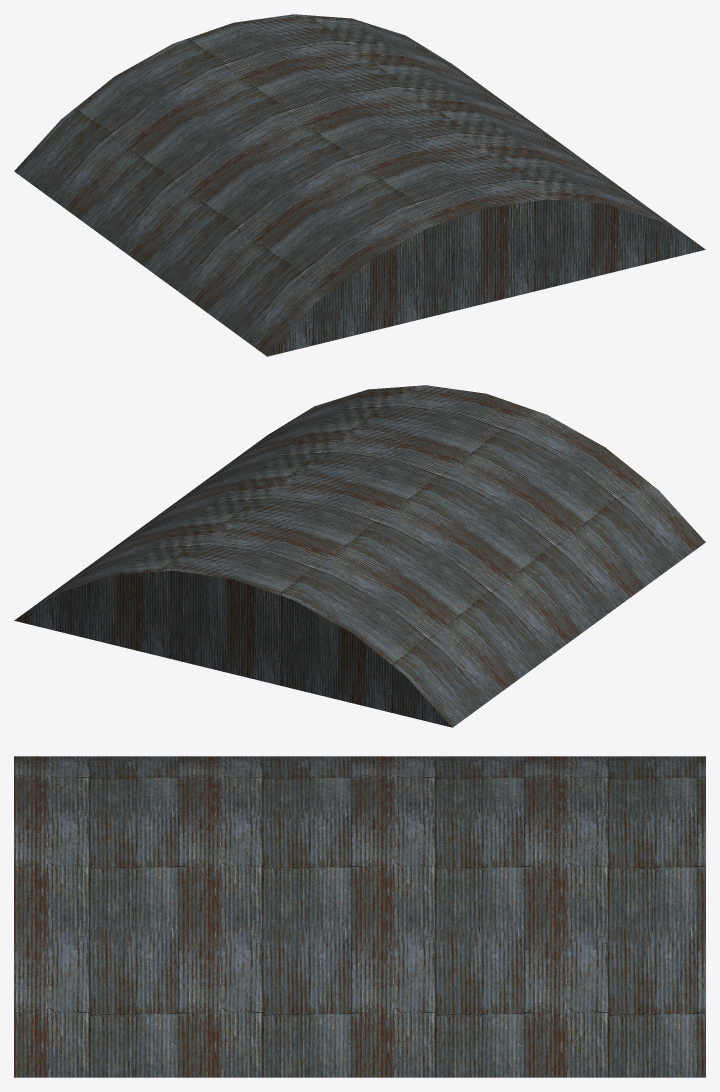
Rendered from warehouse_hs_1_roof_1.obj.
The picture shows the model from 3 angles, top to bottom: view 1: azimuth 30°, elevation 25°; view 2: azimuth 150°, elevation 25°; view 3: azimuth 270°, elevation 25°; orthographic projection. The views are drawn at different scales.
Parts seen in each view (by area): view 1: warehouse_hs_1_roof_1; view 2: warehouse_hs_1_roof_1; view 3: warehouse_hs_1_roof_1.
Part boxes in pixels (x1=…): warehouse_hs_1_roof_1: x1=14, y1=14, x2=705, y2=356; warehouse_hs_1_roof_1: x1=14, y1=385, x2=705, y2=727; warehouse_hs_1_roof_1: x1=14, y1=756, x2=705, y2=1077.
Bounding box in the file's own units: 8 × 1.66 × 8.
